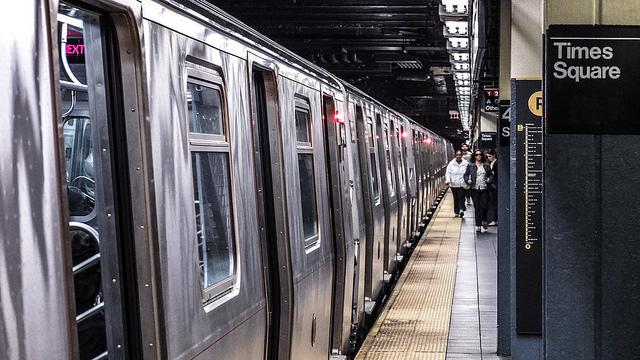Train: (3, 1, 456, 356)
